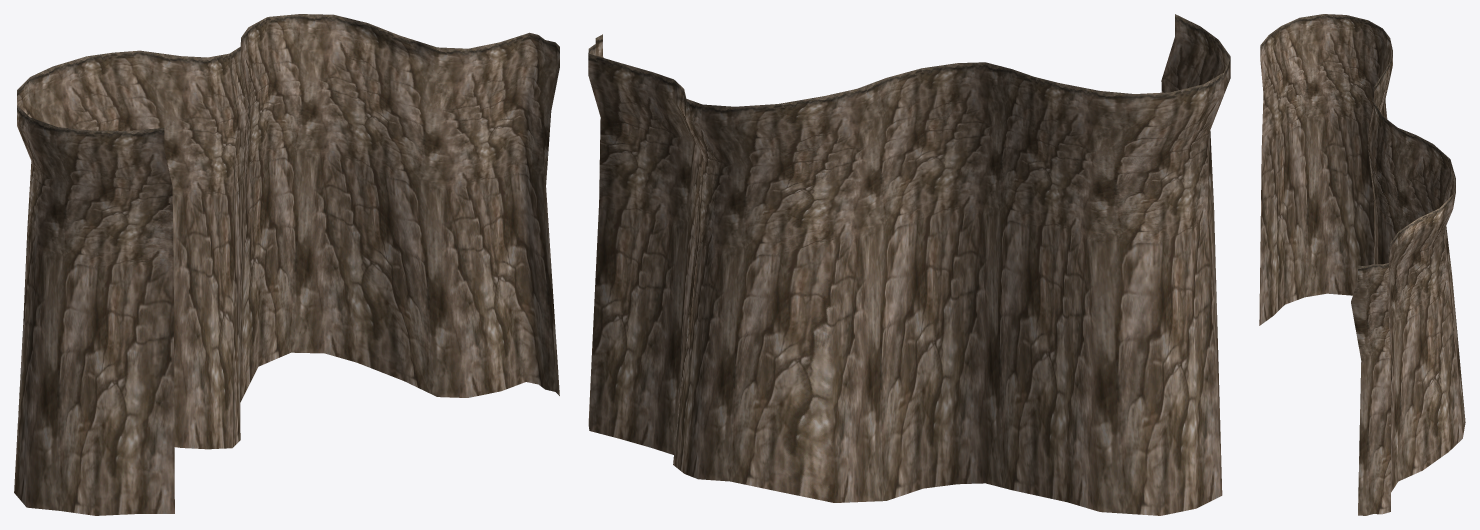
Rendered from OVERHILL_A_01_LINE53.fbx.
3 renders of one model, left to right at view 1: azimuth 30°, elevation 25°; view 2: azimuth 150°, elevation 25°; view 3: azimuth 270°, elevation 25°, orthographic. The views are drawn at different scales.
Visible parts, largest first — view 1: OVERHILL_A_01_LINE53; view 2: OVERHILL_A_01_LINE53; view 3: OVERHILL_A_01_LINE53.
Boxes of the visible parts, box(x1,y1,x2,y2) form: OVERHILL_A_01_LINE53: box(14, 14, 559, 515); OVERHILL_A_01_LINE53: box(588, 14, 1230, 515); OVERHILL_A_01_LINE53: box(1259, 14, 1465, 515).
Bounding box in the file's own units: 284869 × 212259 × 128028.
2 materials, 2 textured.
